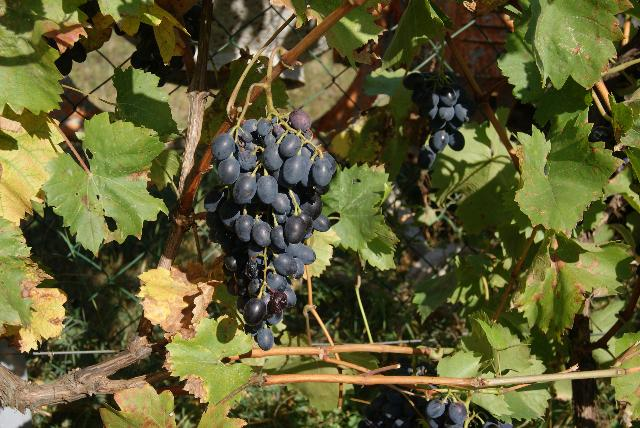grapes: (204, 110, 338, 350), (404, 71, 478, 154)
